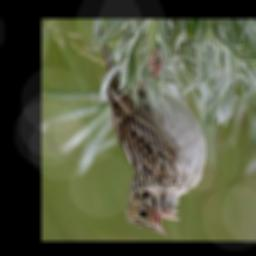Sparrow: (97, 25, 207, 236)
